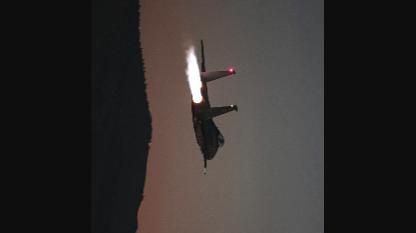F117: (191, 39, 238, 176)
